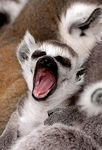cat: (1, 29, 90, 149)
